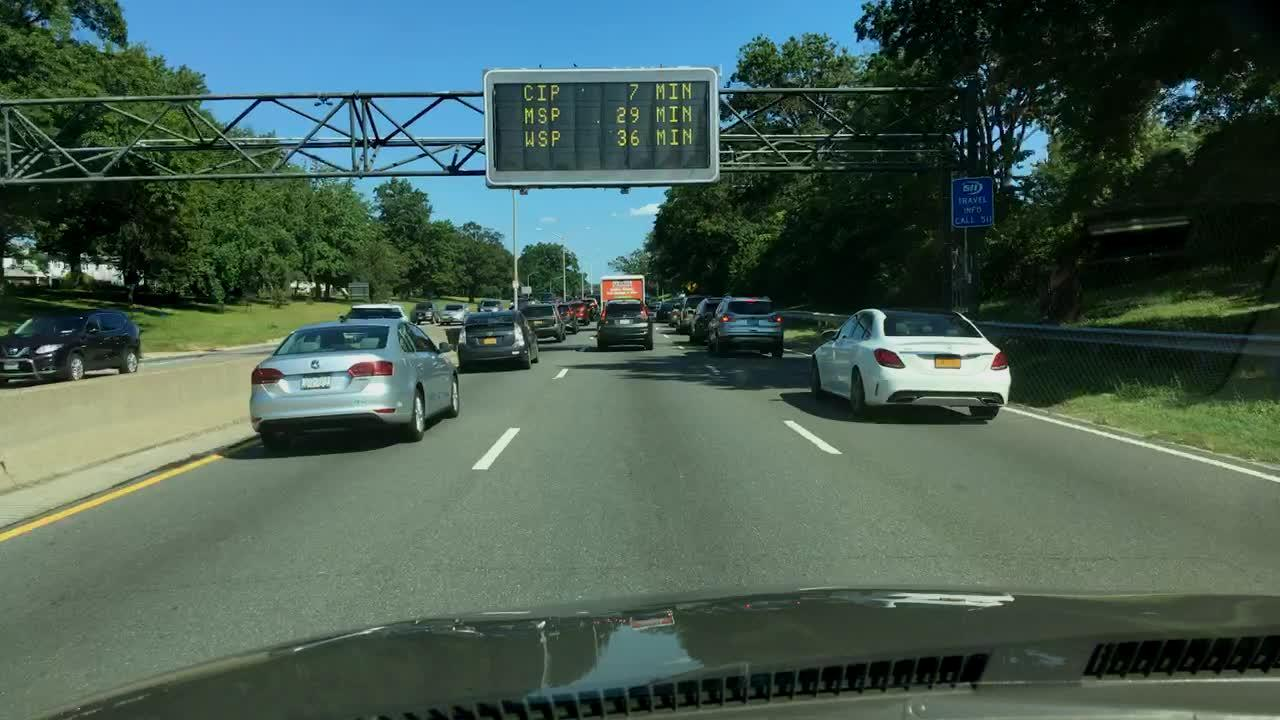Volkswagen: (309, 356, 321, 371)
